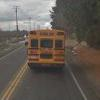Bus: (22, 29, 71, 74)
